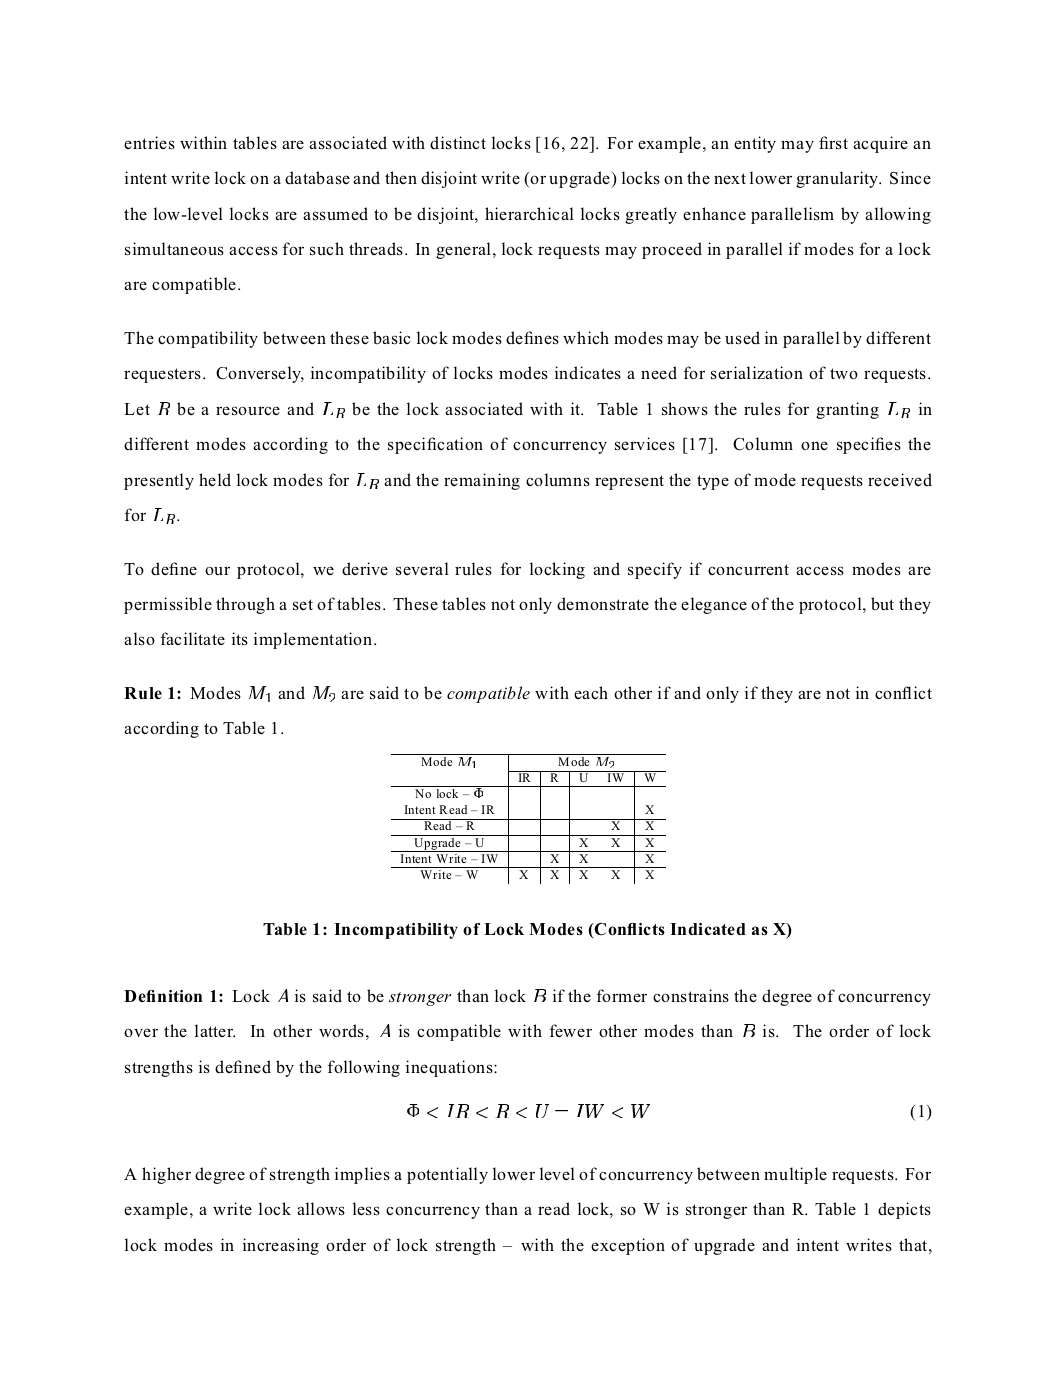Table: (391, 752, 665, 884)
formula: (407, 1102, 931, 1121)
